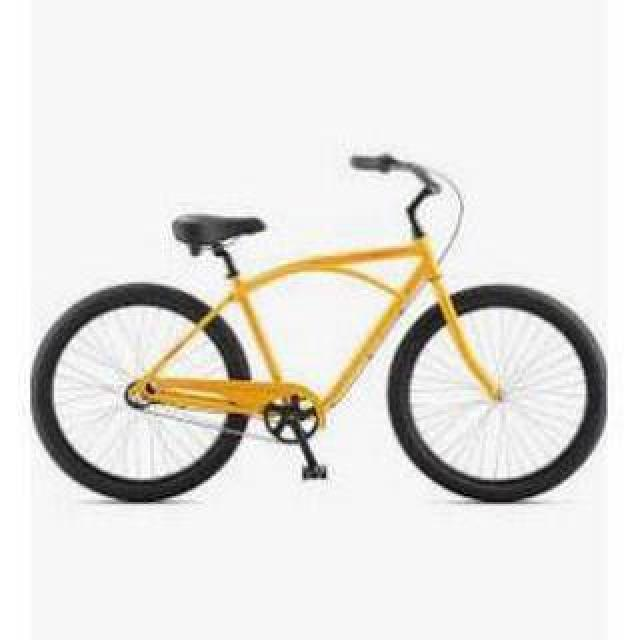Person: (27, 136, 605, 506)
